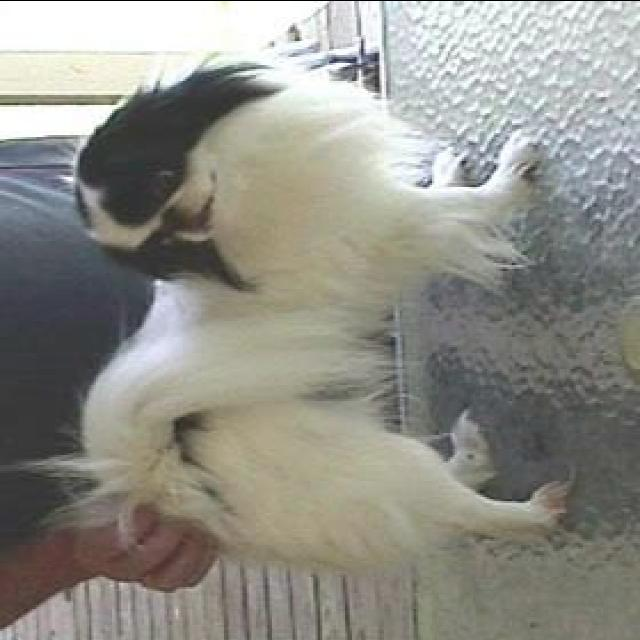husky: (29, 56, 574, 546)
